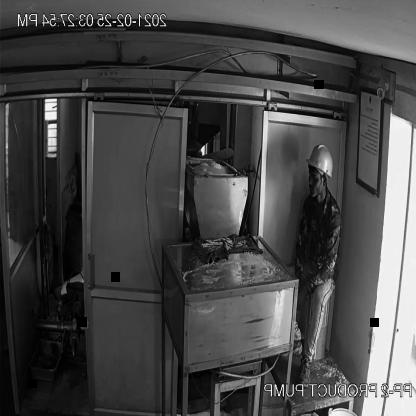helmet: (304, 140, 336, 181)
